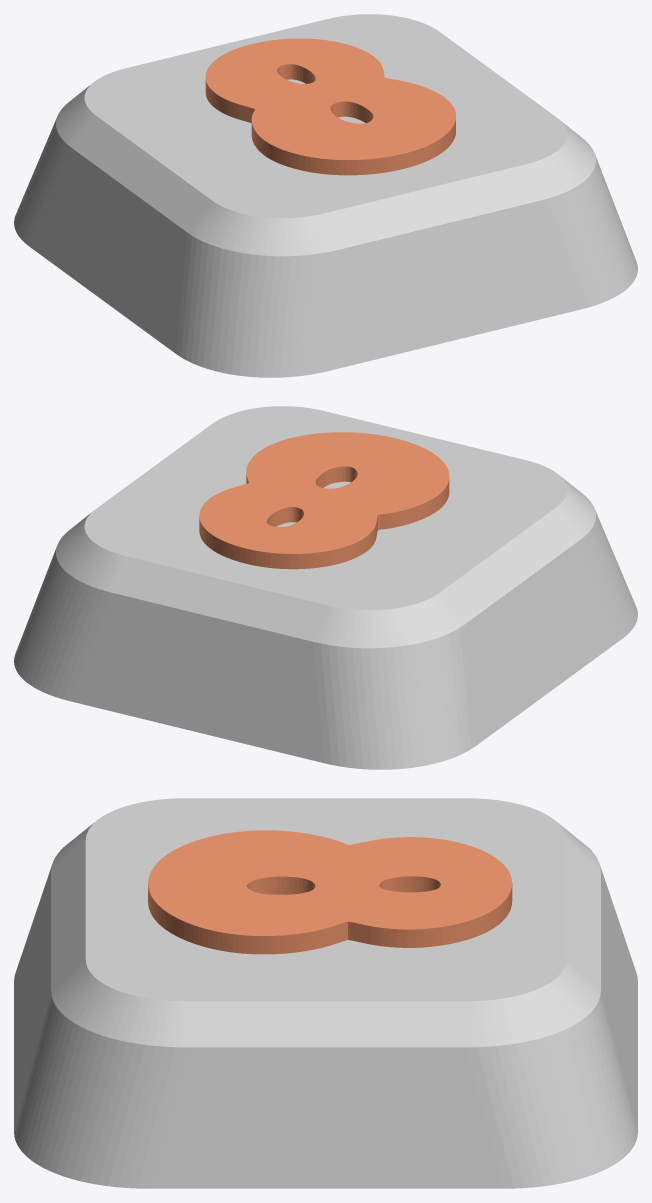
Rendered from cap-8.glb.
3 views of the same model, one above another, from view 1: azimuth 30°, elevation 25°; view 2: azimuth 150°, elevation 25°; view 3: azimuth 270°, elevation 25° (orthographic). The views are drawn at different scales.
Visible parts, largest first — view 1: cap_0, glyph_1; view 2: cap_0, glyph_1; view 3: cap_0, glyph_1.
Boxes of the visible parts, x1,y1,x2,y2 form: cap_0: [14, 14, 637, 377]; glyph_1: [205, 38, 455, 175]; cap_0: [14, 406, 637, 769]; glyph_1: [199, 432, 449, 569]; cap_0: [14, 798, 637, 1188]; glyph_1: [148, 830, 512, 954].
Size of the model in its own units: 18 by 5.59 by 18.
